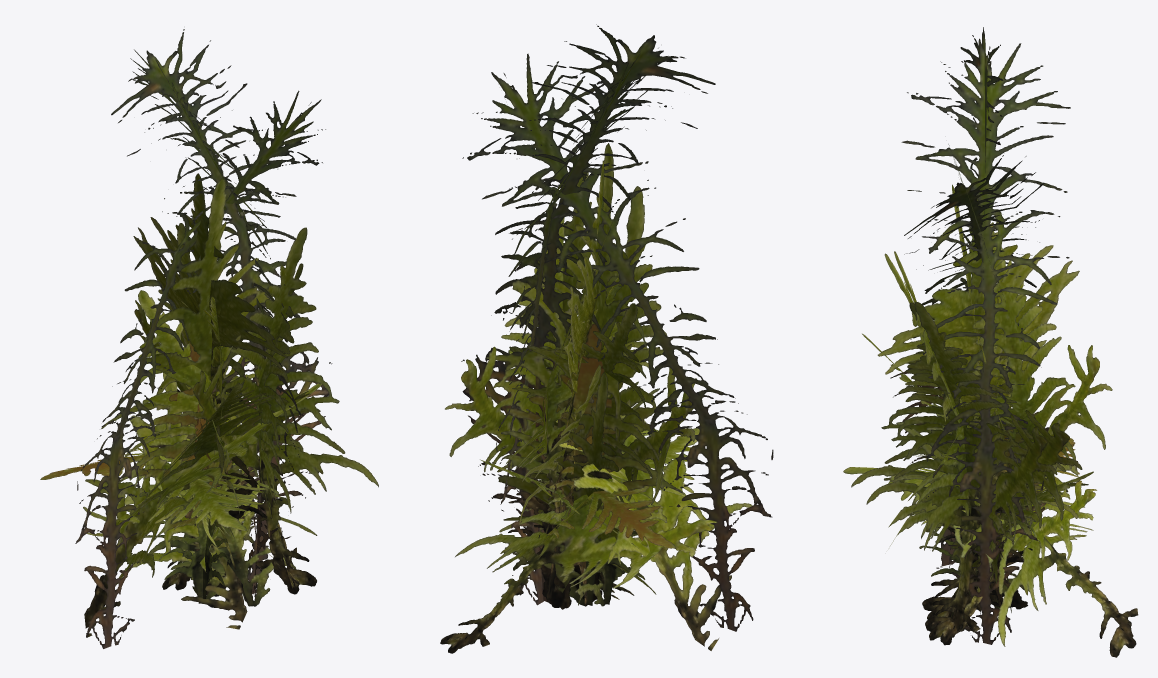
Rendered from moss_01.fbx.
3 views of the same model, side by side, from view 1: azimuth 30°, elevation 25°; view 2: azimuth 150°, elevation 25°; view 3: azimuth 270°, elevation 25° (orthographic). The views are drawn at different scales.
Visible parts, largest first — view 1: moss_01_c_LOD0, moss_01_tall_a_LOD0, moss_01_f_LOD0, moss_01_tall_b_LOD0, moss_01_i_LOD0, moss_01_d_LOD0, moss_01_e_LOD0, moss_01_j_LOD0, moss_01_h_LOD0, moss_01_b_LOD0, moss_01_a_LOD0, moss_01_g_LOD0; view 2: moss_01_tall_a_LOD0, moss_01_tall_b_LOD0, moss_01_j_LOD0, moss_01_c_LOD0, moss_01_f_LOD0, moss_01_i_LOD0, moss_01_e_LOD0, moss_01_g_LOD0, moss_01_a_LOD0, moss_01_h_LOD0, moss_01_d_LOD0, moss_01_b_LOD0; view 3: moss_01_tall_b_LOD0, moss_01_c_LOD0, moss_01_d_LOD0, moss_01_a_LOD0, moss_01_f_LOD0, moss_01_j_LOD0, moss_01_tall_a_LOD0, moss_01_e_LOD0, moss_01_g_LOD0, moss_01_b_LOD0.
Boxes of the visible parts, x1,y1,x2,y2 form: moss_01_c_LOD0: [40, 227, 378, 594]; moss_01_tall_a_LOD0: [75, 90, 325, 648]; moss_01_f_LOD0: [101, 173, 287, 596]; moss_01_tall_b_LOD0: [111, 29, 332, 596]; moss_01_i_LOD0: [84, 382, 323, 637]; moss_01_d_LOD0: [123, 223, 320, 590]; moss_01_e_LOD0: [125, 290, 258, 576]; moss_01_j_LOD0: [83, 473, 317, 536]; moss_01_h_LOD0: [129, 373, 263, 629]; moss_01_b_LOD0: [153, 404, 251, 603]; moss_01_a_LOD0: [105, 417, 295, 606]; moss_01_g_LOD0: [118, 296, 253, 587]; moss_01_tall_a_LOD0: [462, 53, 773, 631]; moss_01_tall_b_LOD0: [461, 24, 715, 605]; moss_01_j_LOD0: [440, 428, 717, 653]; moss_01_c_LOD0: [445, 172, 675, 570]; moss_01_f_LOD0: [486, 143, 659, 601]; moss_01_i_LOD0: [509, 350, 752, 650]; moss_01_e_LOD0: [508, 303, 659, 609]; moss_01_g_LOD0: [501, 277, 683, 606]; moss_01_a_LOD0: [480, 186, 696, 578]; moss_01_h_LOD0: [498, 372, 656, 599]; moss_01_d_LOD0: [506, 217, 646, 507]; moss_01_b_LOD0: [540, 407, 675, 606]; moss_01_tall_b_LOD0: [901, 27, 1070, 644]; moss_01_c_LOD0: [866, 251, 1096, 645]; moss_01_d_LOD0: [862, 231, 1112, 567]; moss_01_a_LOD0: [851, 253, 1093, 629]; moss_01_f_LOD0: [877, 184, 1079, 614]; moss_01_j_LOD0: [843, 467, 1138, 657]; moss_01_tall_a_LOD0: [890, 144, 1044, 568]; moss_01_e_LOD0: [890, 355, 1078, 616]; moss_01_g_LOD0: [905, 333, 1046, 612]; moss_01_b_LOD0: [908, 484, 1041, 609].
Size of the model in its own units: 0.0214 by 0.0372 by 0.0188.
Materials: 1 (1 with a texture image).
